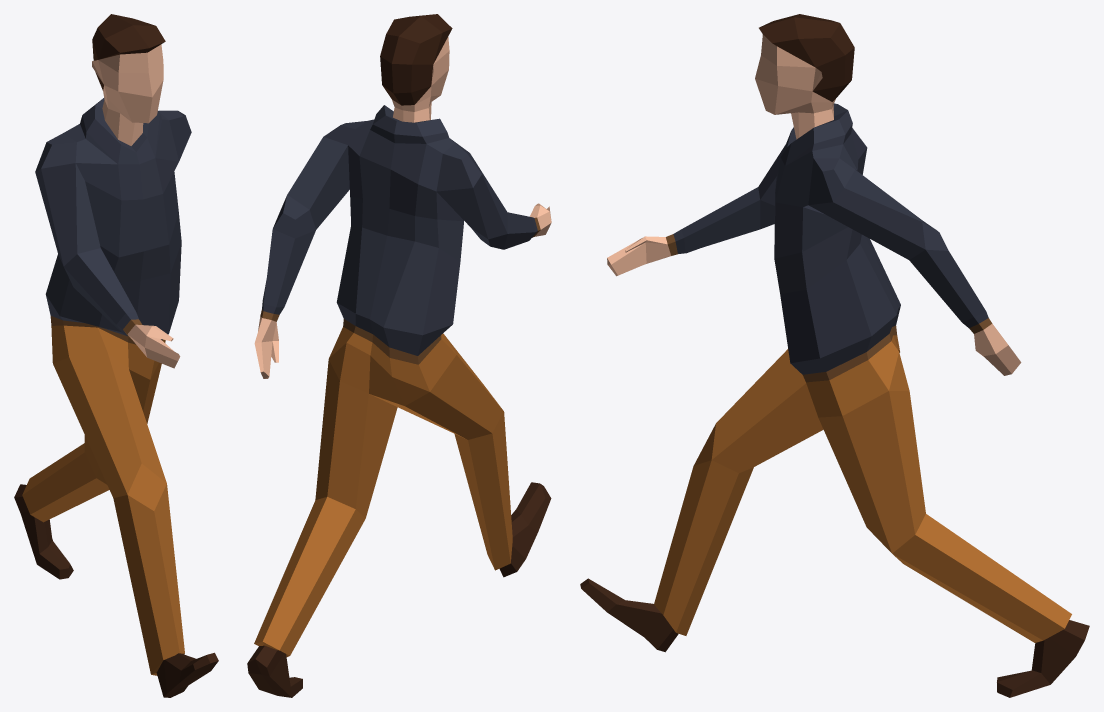
File: AutumnManA.002.glb
3 renders of one model, left to right at view 1: azimuth 30°, elevation 25°; view 2: azimuth 150°, elevation 25°; view 3: azimuth 270°, elevation 25°, orthographic. The views are drawn at different scales.
Visible parts, largest first — view 1: AutumnManA.002; view 2: AutumnManA.002; view 3: AutumnManA.002.
Part boxes in pixels (x1,y1,x2,y2): AutumnManA.002: (14,14,218,697); AutumnManA.002: (247,14,551,697); AutumnManA.002: (580,14,1089,697).
Bounding box in the file's own units: 0.4429 × 1.63 × 1.14.
1 material, 1 textured.
